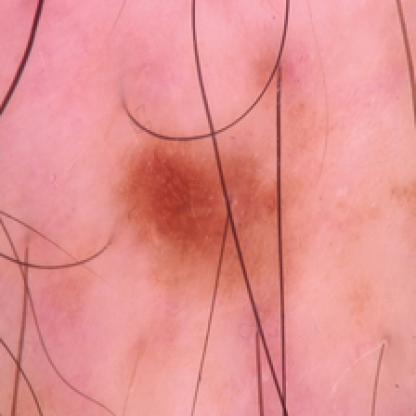benign: (132, 136, 284, 264)
